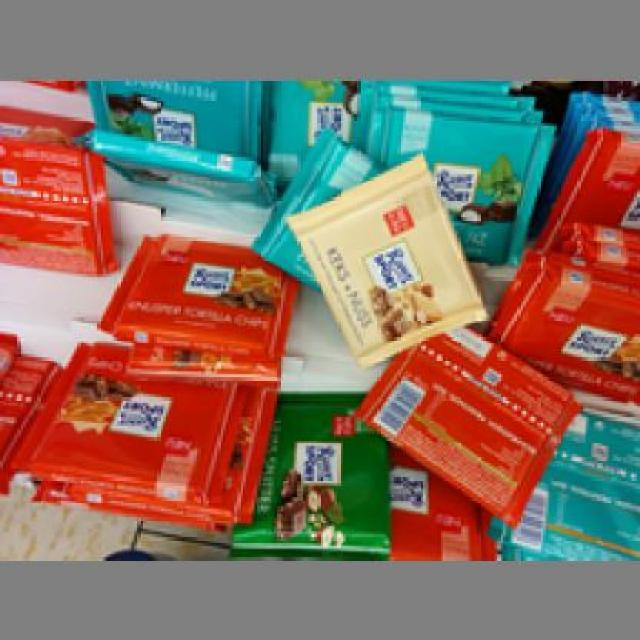Chocolate: (351, 317, 564, 506), (296, 162, 489, 348), (15, 336, 232, 489), (357, 100, 532, 260), (228, 386, 392, 546), (100, 232, 289, 352), (488, 257, 634, 397), (82, 126, 272, 212), (0, 138, 100, 272)
